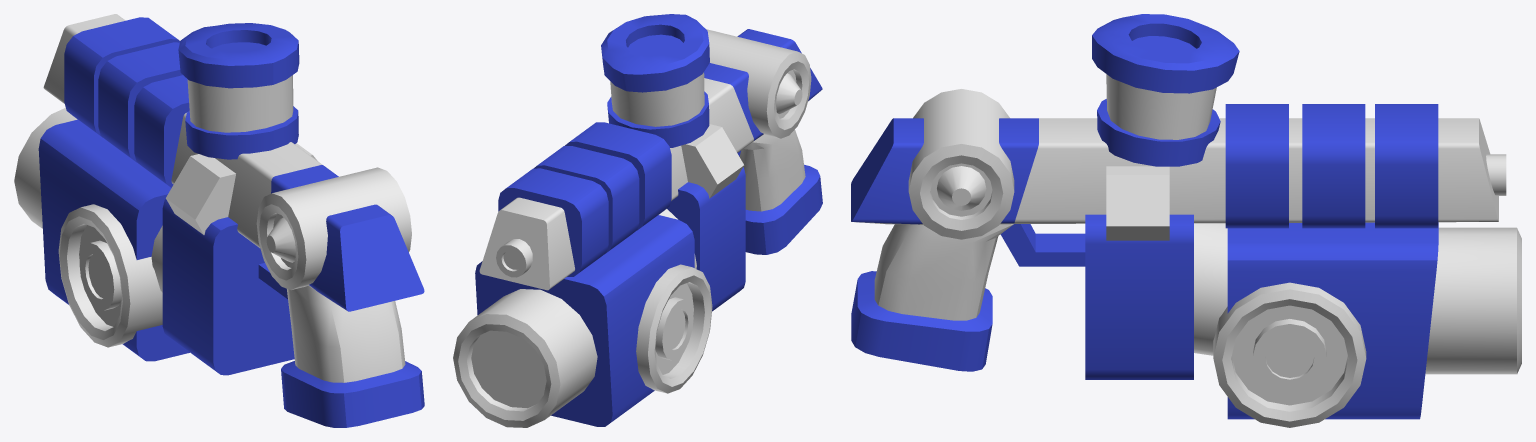
The model's file is laser-gun-design1.glb.
3 views of the same model, side by side, from view 1: azimuth 30°, elevation 25°; view 2: azimuth 150°, elevation 25°; view 3: azimuth 270°, elevation 25° (orthographic). The views are drawn at different scales.
Visible parts, largest first — view 1: Cube; view 2: Cube; view 3: Cube.
Boxes of the visible parts, x1,y1,x2,y2 form: Cube: [14, 14, 424, 427]; Cube: [453, 14, 822, 427]; Cube: [851, 14, 1521, 427].
Size of the model in its own units: 1.16 by 2.08 by 3.54.
